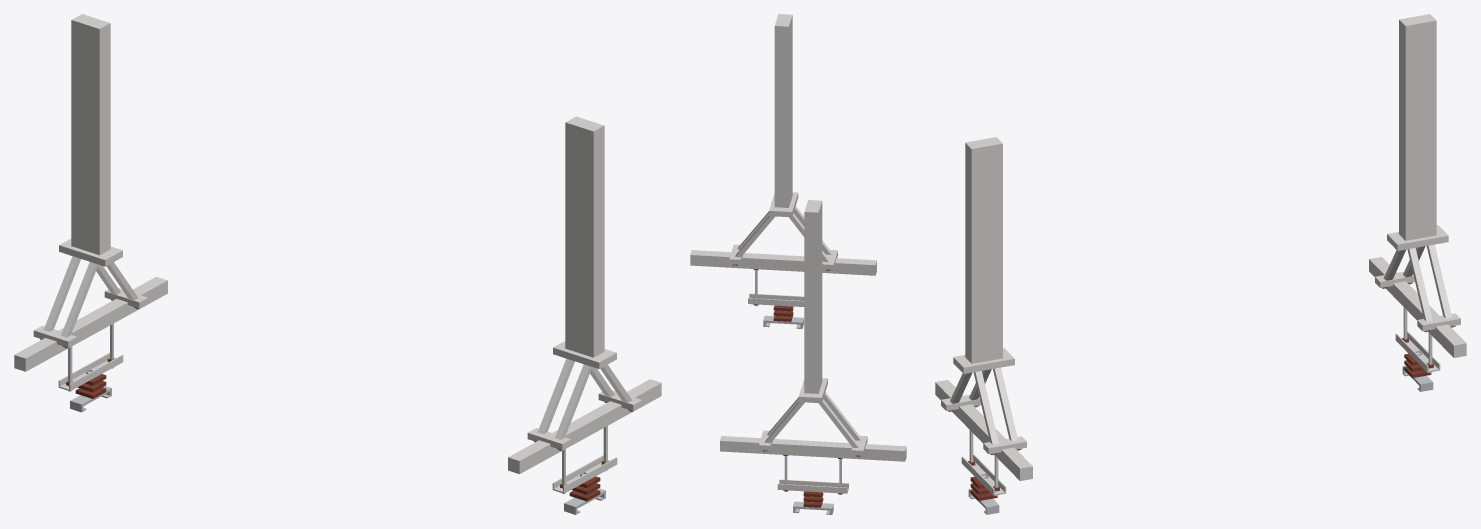
Rendered from catenary_rigid_end_p_p.obj.
The picture shows the model from 3 angles, left to right: view 1: azimuth 30°, elevation 25°; view 2: azimuth 150°, elevation 25°; view 3: azimuth 270°, elevation 25°; orthographic projection. The views are drawn at different scales.
Visible parts, largest first — view 1: rigid_catenary_node.001, rigid_catenary_node.002; view 2: rigid_catenary_node.002, rigid_catenary_node.001; view 3: rigid_catenary_node.001, rigid_catenary_node.002.
Part boxes in pixels (x1,y1,x2,y2): rigid_catenary_node.001: (508, 116, 661, 514); rigid_catenary_node.002: (14, 14, 167, 412); rigid_catenary_node.002: (720, 200, 906, 514); rigid_catenary_node.001: (690, 14, 876, 328); rigid_catenary_node.001: (935, 137, 1032, 514); rigid_catenary_node.002: (1369, 14, 1466, 391).
Size of the model in its own units: 2.26 by 1.8 by 2.4.
2 materials, 2 textured.
